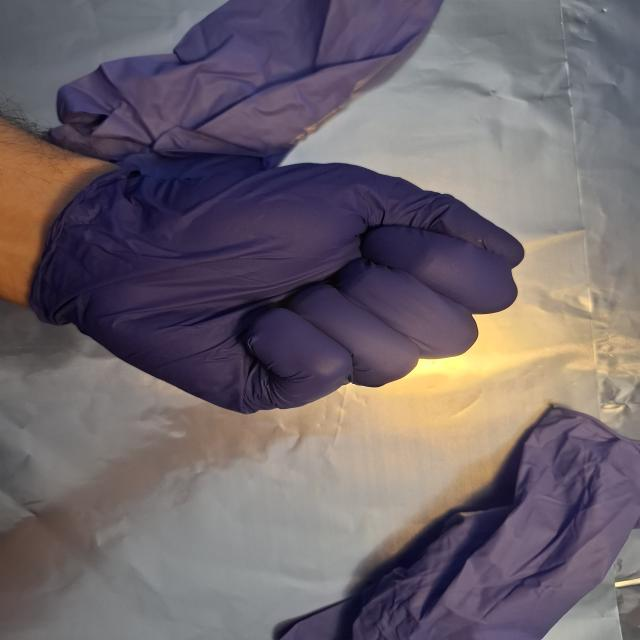glove_on: (26, 147, 530, 418)
